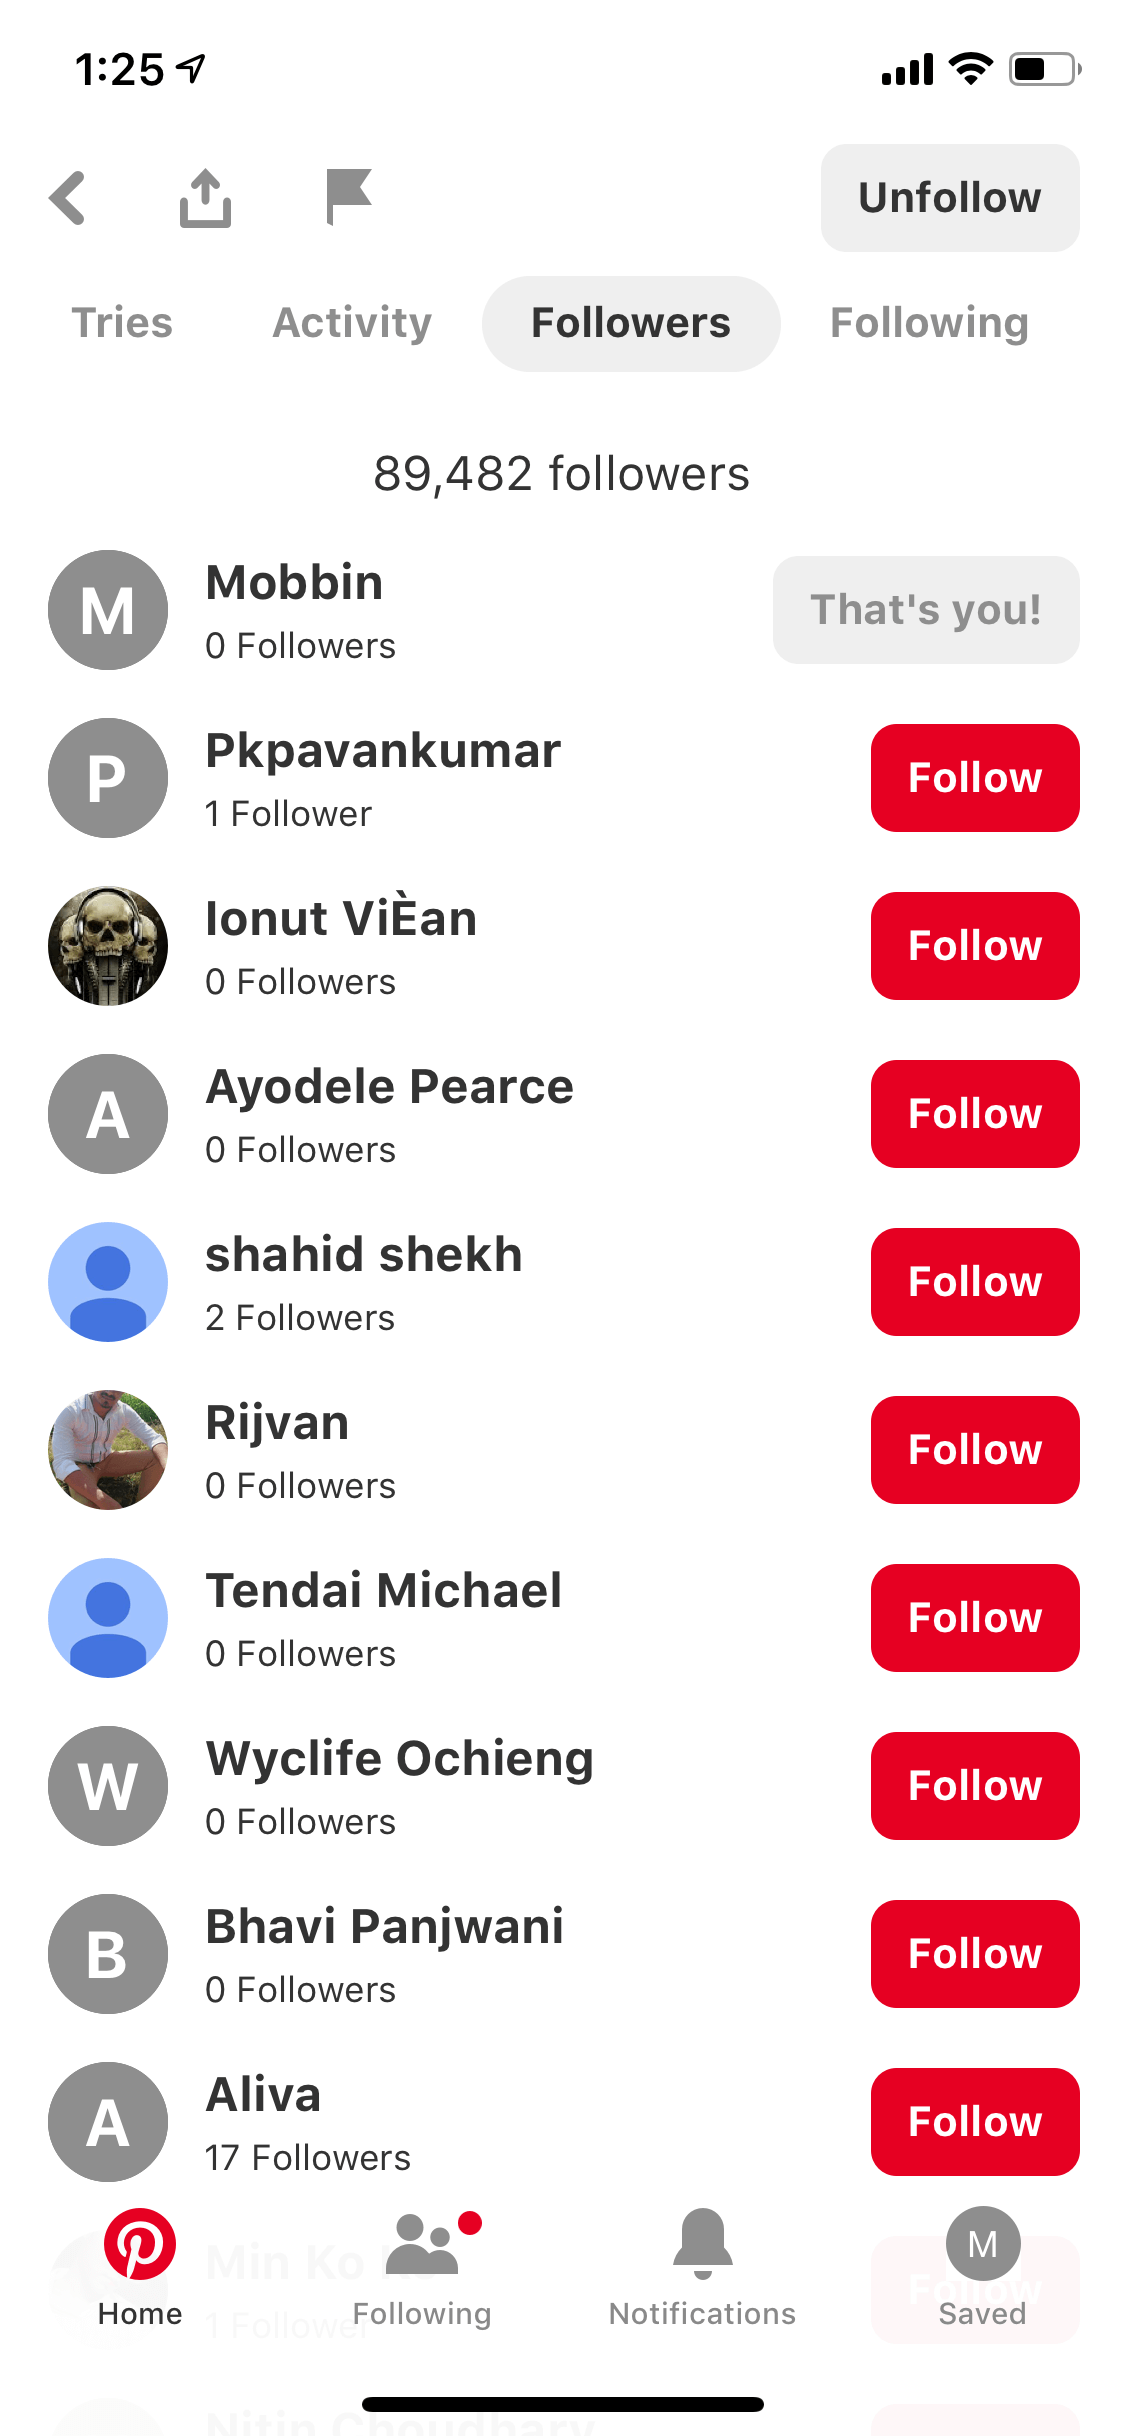Buttons: (757, 544, 1089, 673), (808, 138, 1086, 261), (861, 1880, 1092, 2026), (858, 1550, 1092, 1689), (856, 1044, 1091, 1181), (858, 881, 1092, 1014), (856, 1216, 1094, 1347), (853, 1724, 1091, 1852), (861, 1384, 1092, 1515), (862, 710, 1089, 840), (866, 2060, 1089, 2180), (11, 126, 127, 253), (145, 124, 256, 256), (295, 129, 388, 256)
